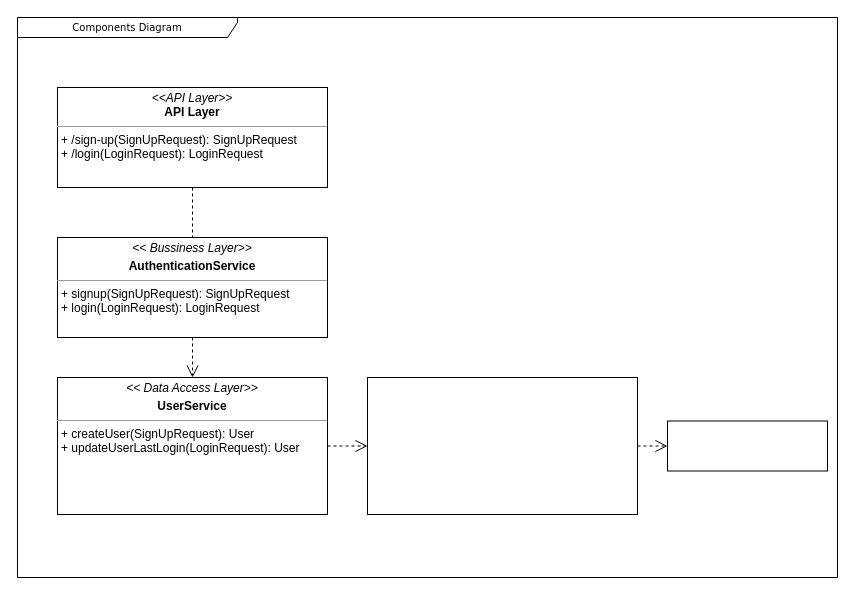
The diagram is 855 pixels wide and 595 high, and some of its shapes have lost their labels. Each missing label, with the centre of its shape:
"<<Repository>> Repository + save(User): User + findByEmail(Email:String): User" goes at [502,445].
"«Infrastructure» H2 Database" goes at [747,445].
